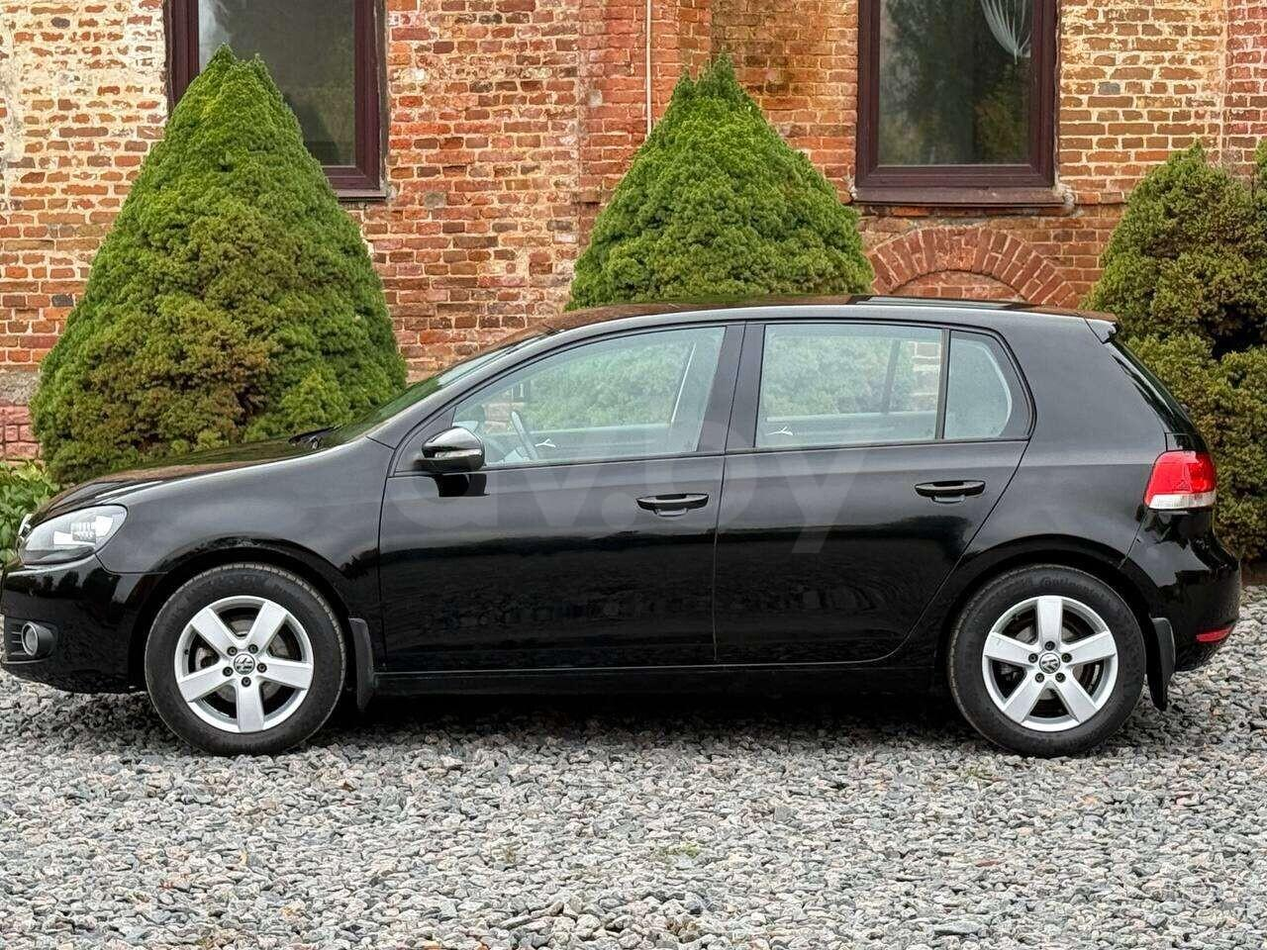Golf_2008-2013: (0, 296, 1217, 774)
